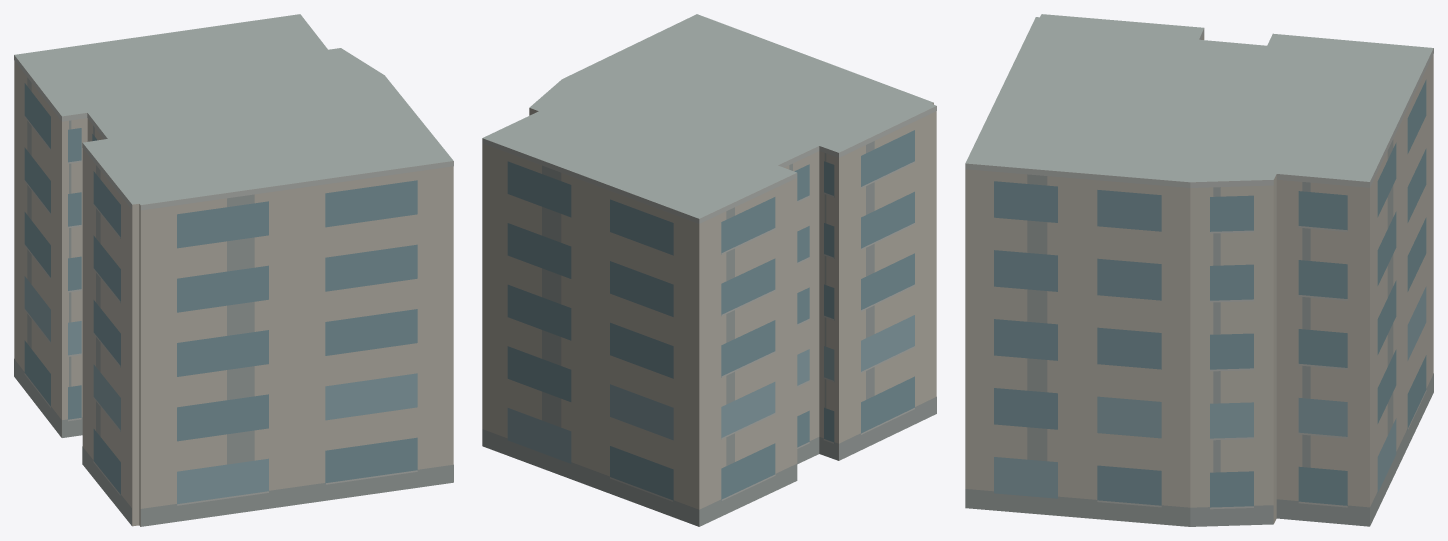
The model's file is survey-upis-32923659.glb.
3 renders of one model, left to right at view 1: azimuth 30°, elevation 25°; view 2: azimuth 150°, elevation 25°; view 3: azimuth 270°, elevation 25°, orthographic. The views are drawn at different scales.
Parts seen in each view (by area): view 1: survey-upis-32923659.tmp; view 2: survey-upis-32923659.tmp; view 3: survey-upis-32923659.tmp.
Boxes of the visible parts, box(x1,y1,x2,y2) form: survey-upis-32923659.tmp: box(14, 14, 453, 526); survey-upis-32923659.tmp: box(482, 14, 936, 526); survey-upis-32923659.tmp: box(965, 14, 1433, 526).
Size of the model in its own units: 15.31 by 14.61 by 18.01.
